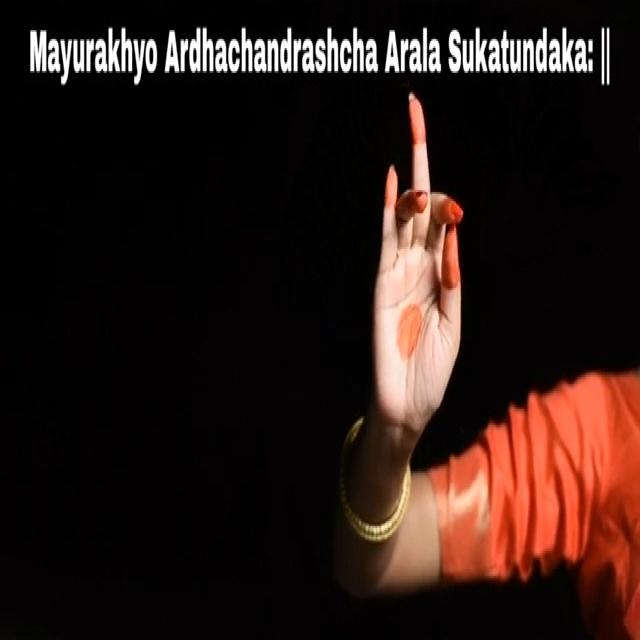Kangula: (357, 89, 484, 440)
bangle: (321, 455, 416, 559)
text: (23, 14, 615, 95)
